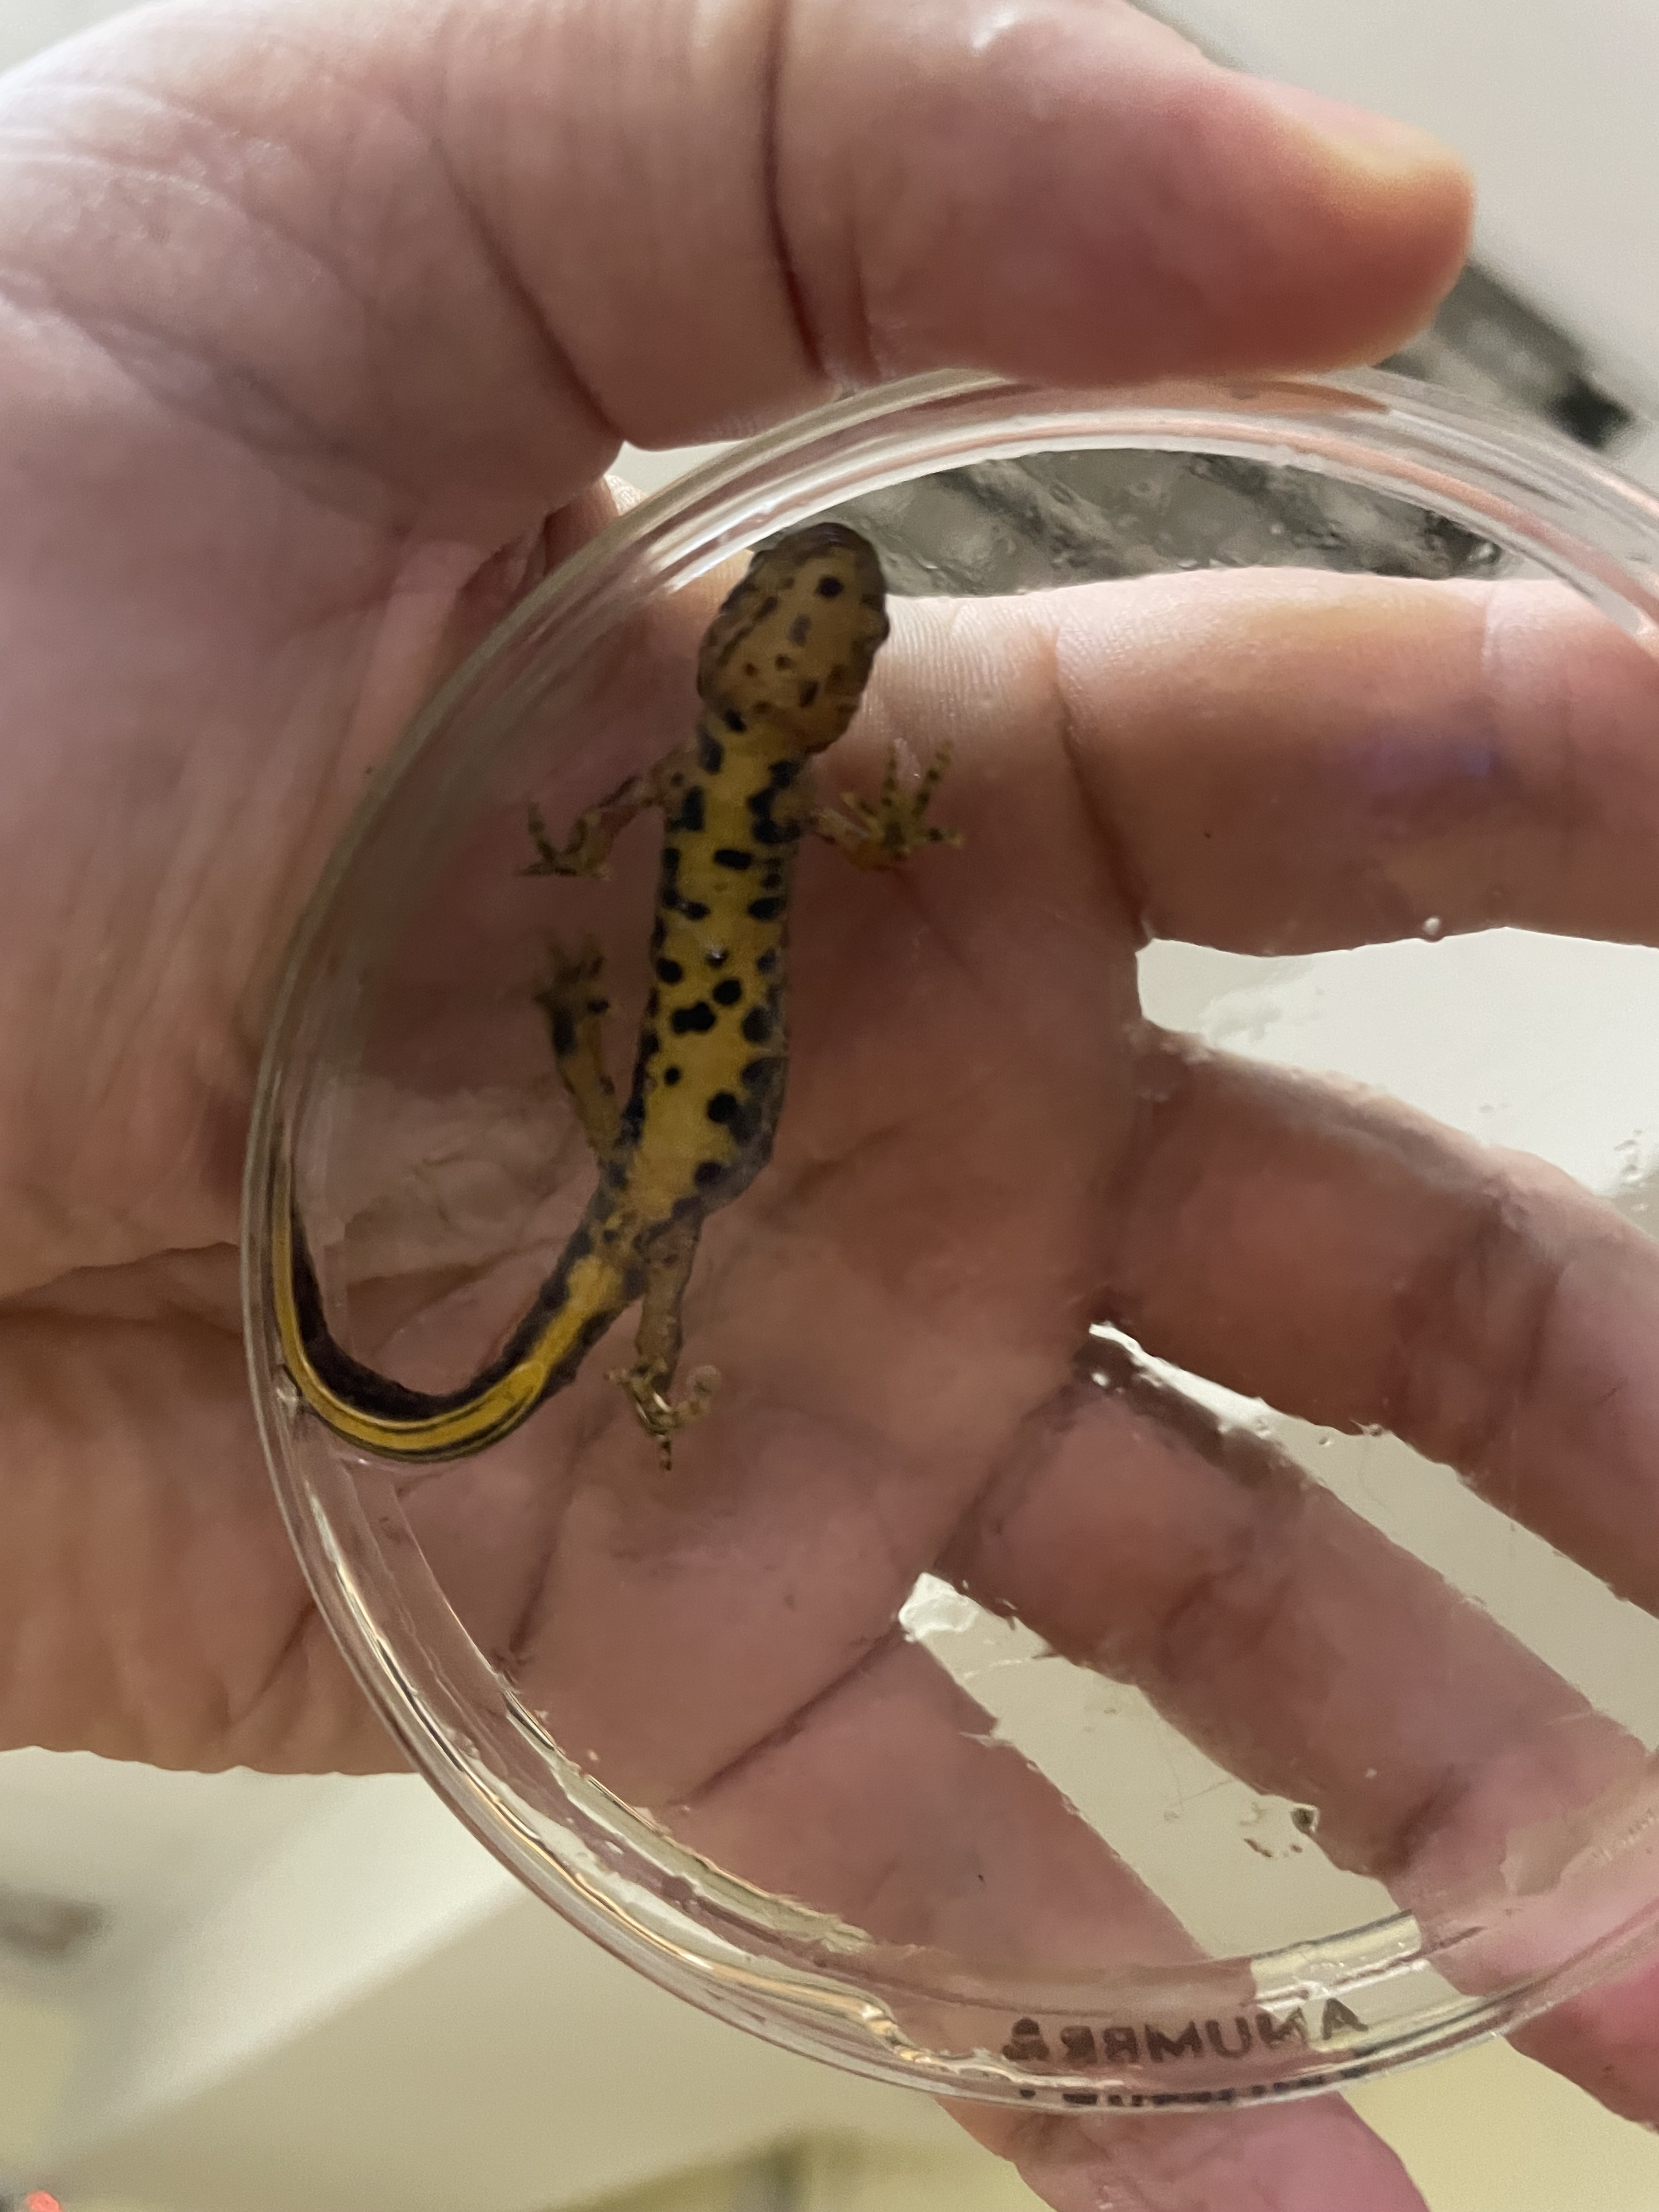Karelin_newt: (626, 810, 803, 1219)
